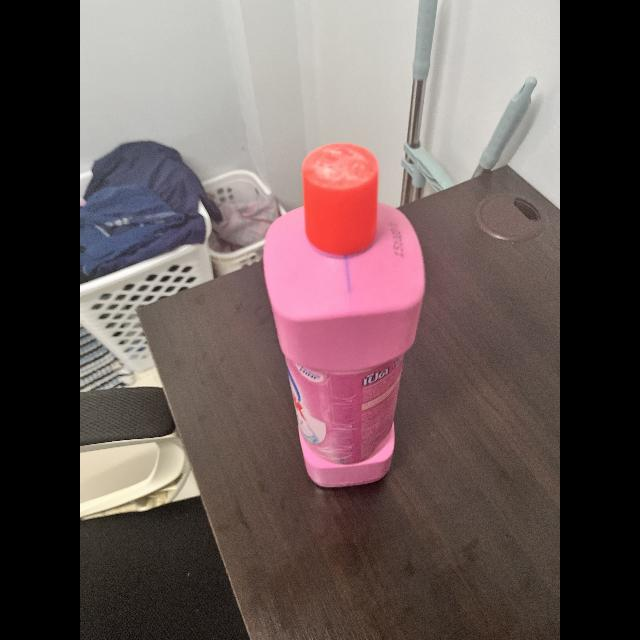chemical_plastic_bottle: (260, 137, 424, 490)
